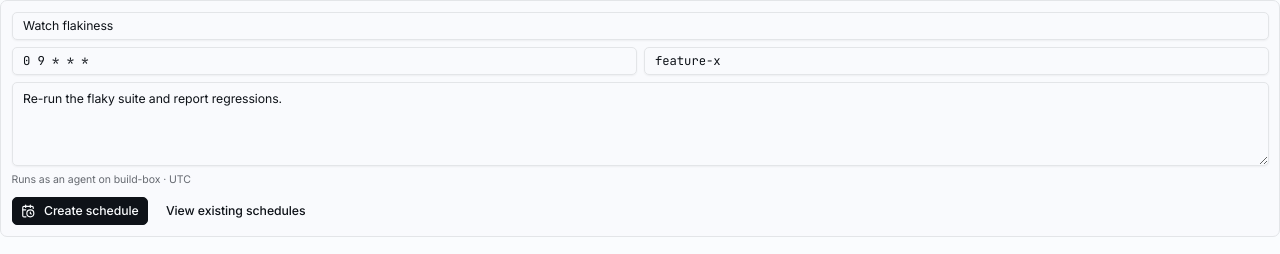
Test: ScheduleProposalUI › creates the schedule from the session's bindings and carries the proposal's identity
The width and height of the screenshot is (1280, 254).
Click the button "Create schedule": (80, 211) [12,197,148,225]
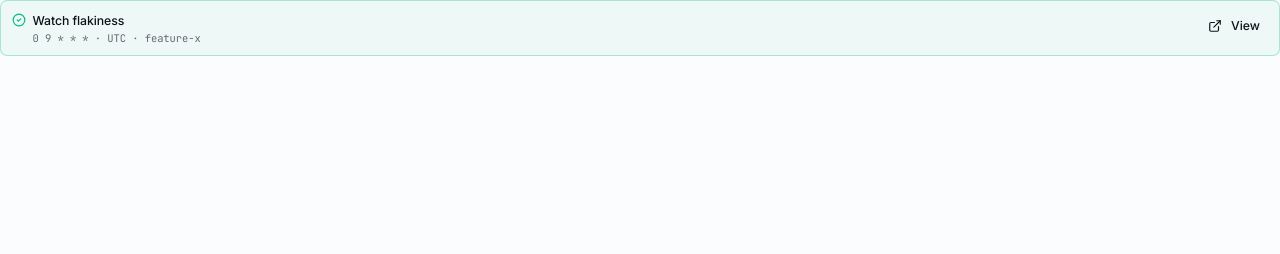
expect the text "Watch flakiness" is shown: met, box [32,12,124,28]
